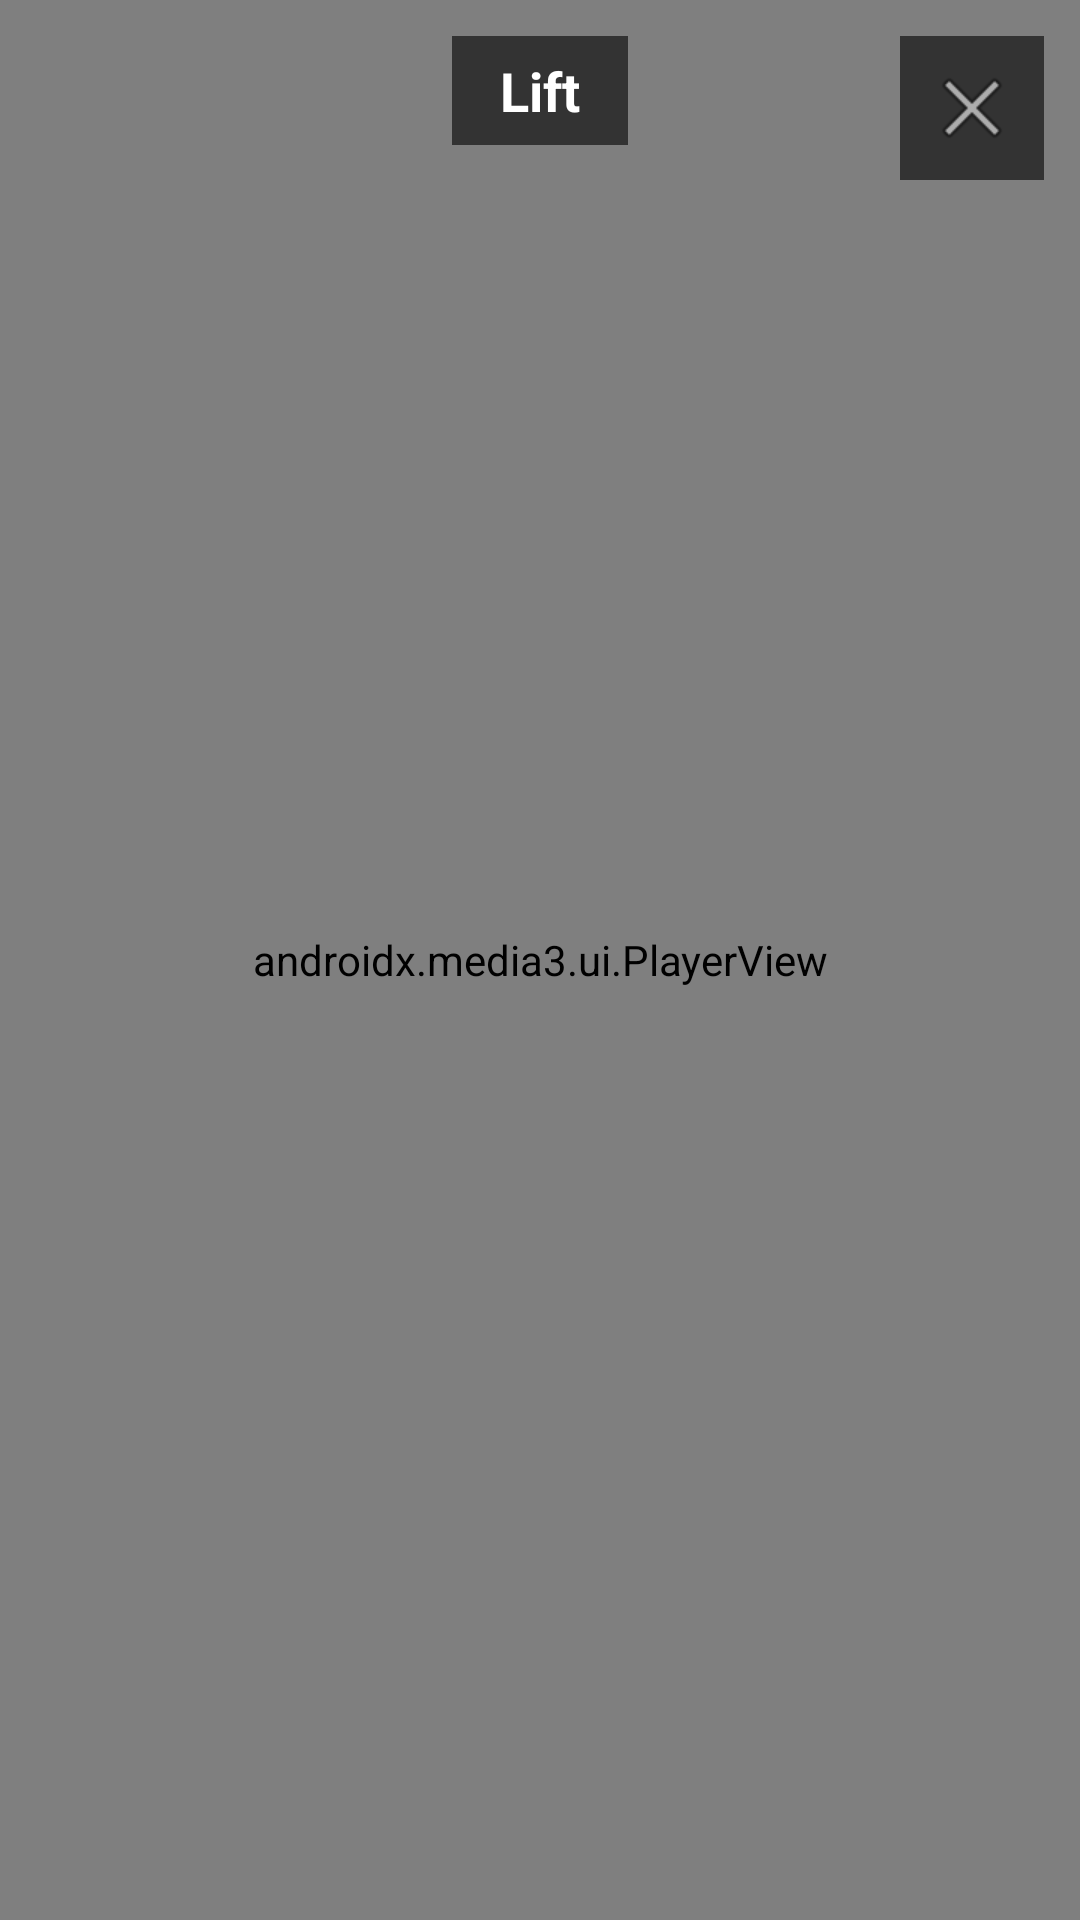

Named icons in this screenshot (1080 x 1920) and their bounding boxes, region(x1, y1, x2, y2):
Close: region(900, 36, 1044, 180)
